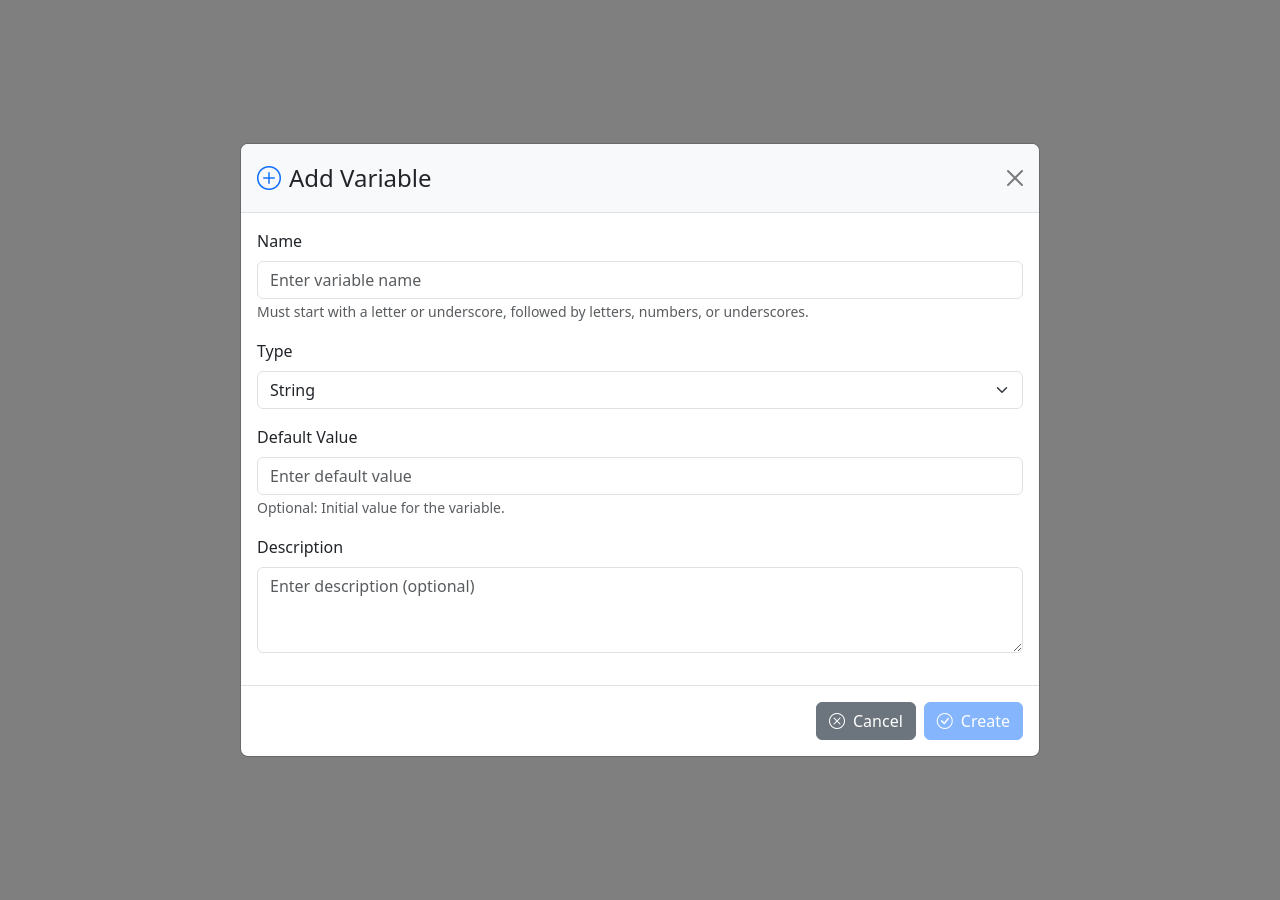
Scenario: VariableEditor › shows error message if save fails
In the field labelled "Name": (640, 280) [257, 261, 1023, 299], type "myVariable"
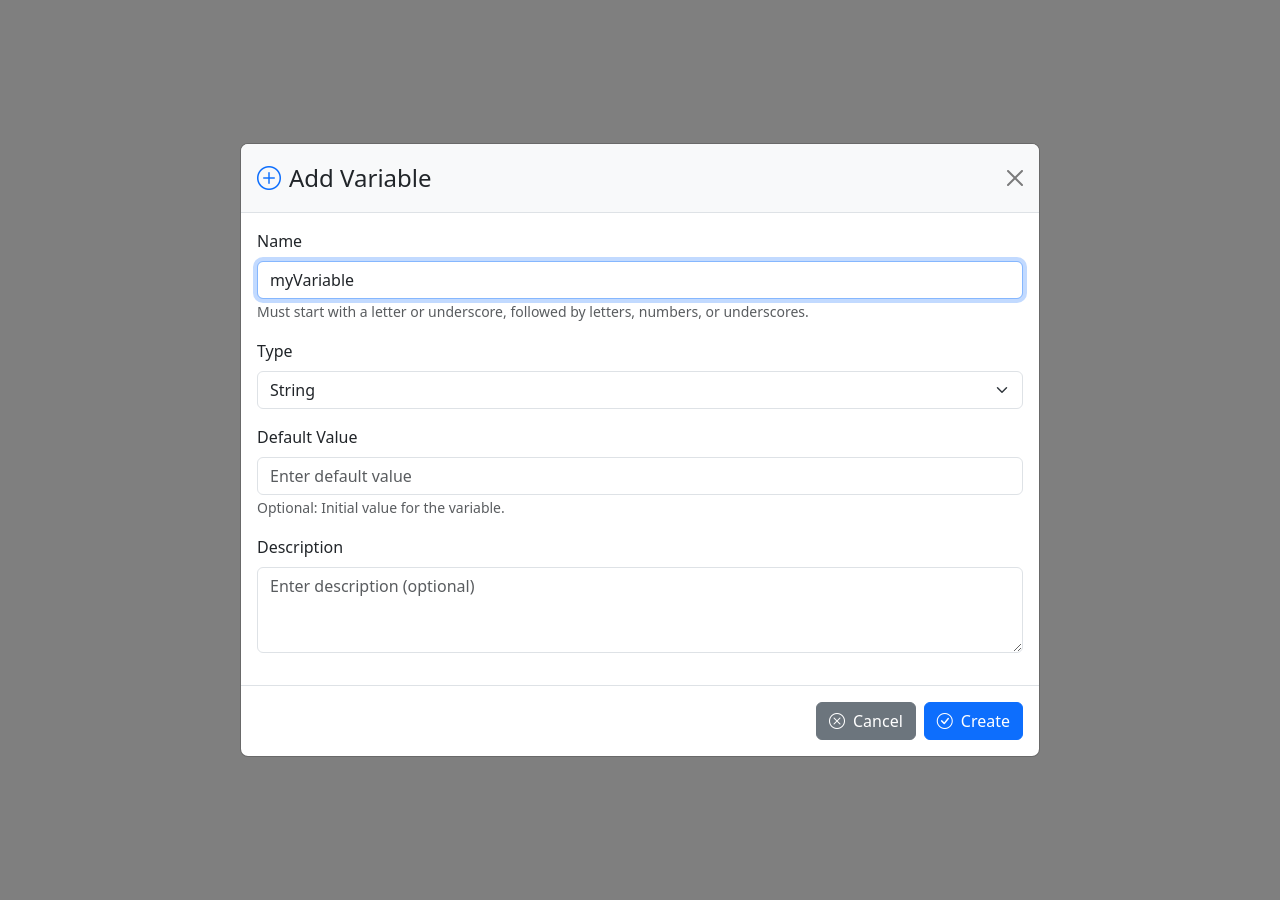
Click the button "Create": click(973, 721) [924, 702, 1023, 740]
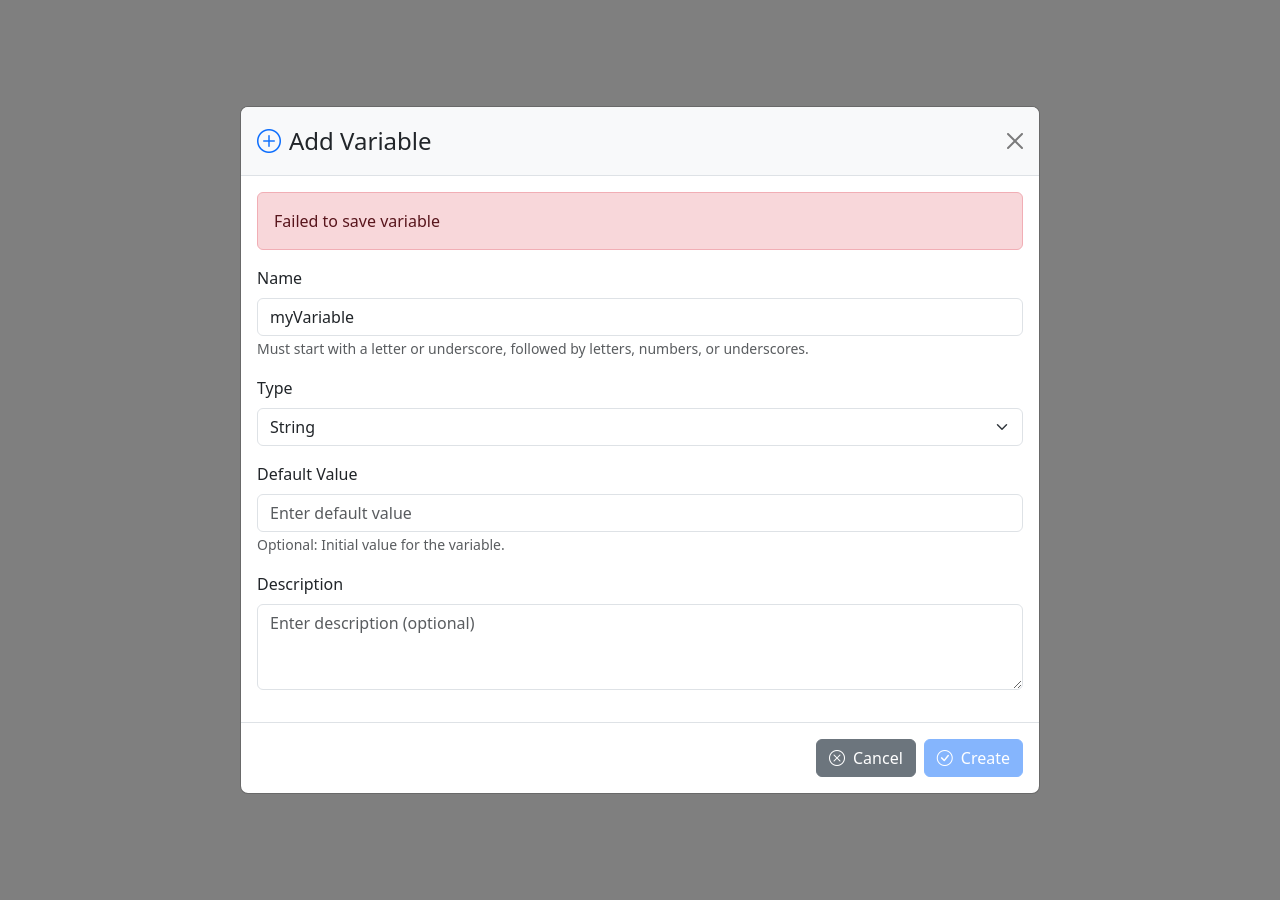
Now the text "Failed to save variable" is shown, box [257, 192, 1023, 250]
